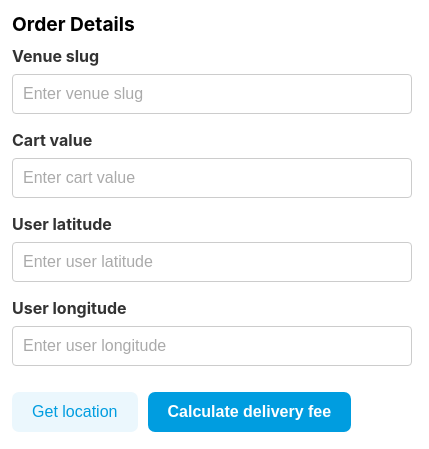
Test: OrderDetailsForm › should fill user latitude and longitude fields when clicking on 'Get location' button
This screenshot has width=429, height=449.
Click the button "Get location".
click(75, 412)  # box [12,392,138,432]
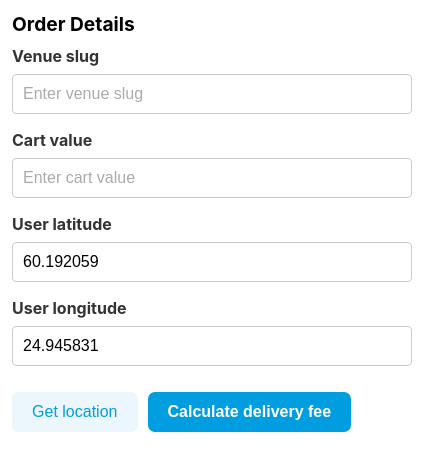
expect the number field with placeholder "Enter user latitude" holds "60.192059": met, box [12,242,412,282]
expect the number field with placeholder "Enter user longitude" holds "24.945831": met, box [12,326,412,366]
